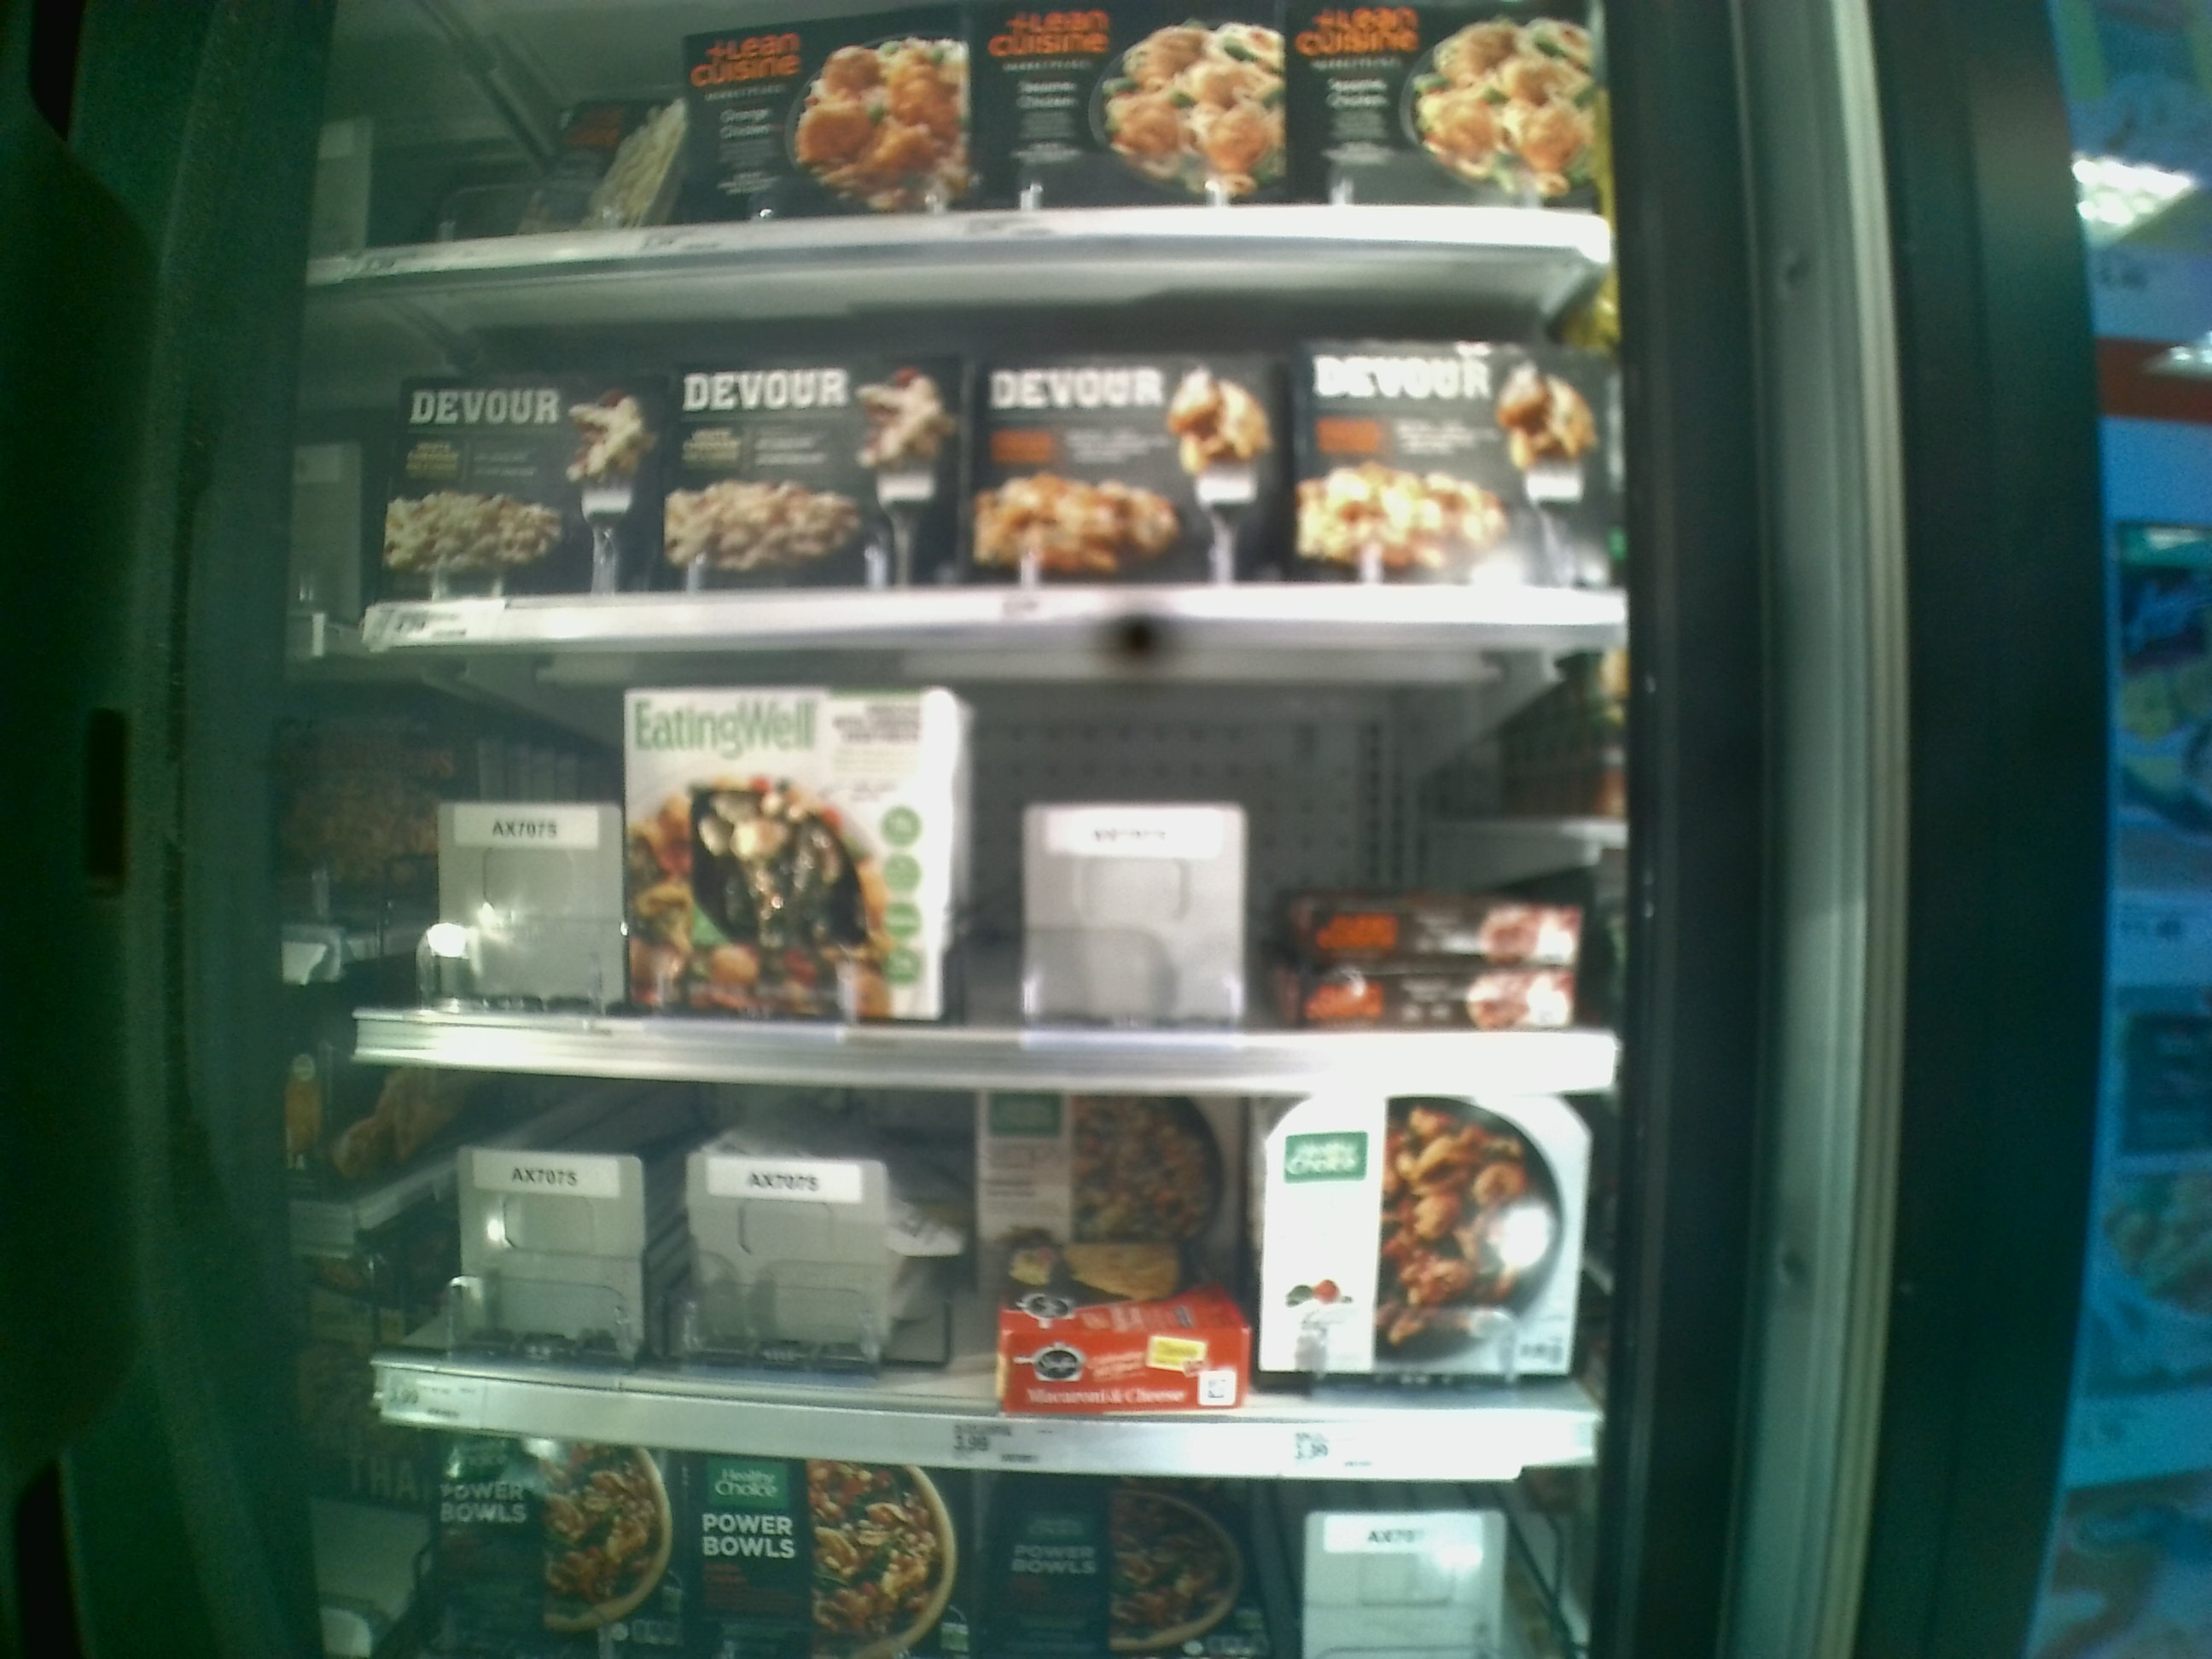shelf: (348, 647, 1639, 1086), (334, 244, 1627, 648), (361, 1065, 1611, 1476)
